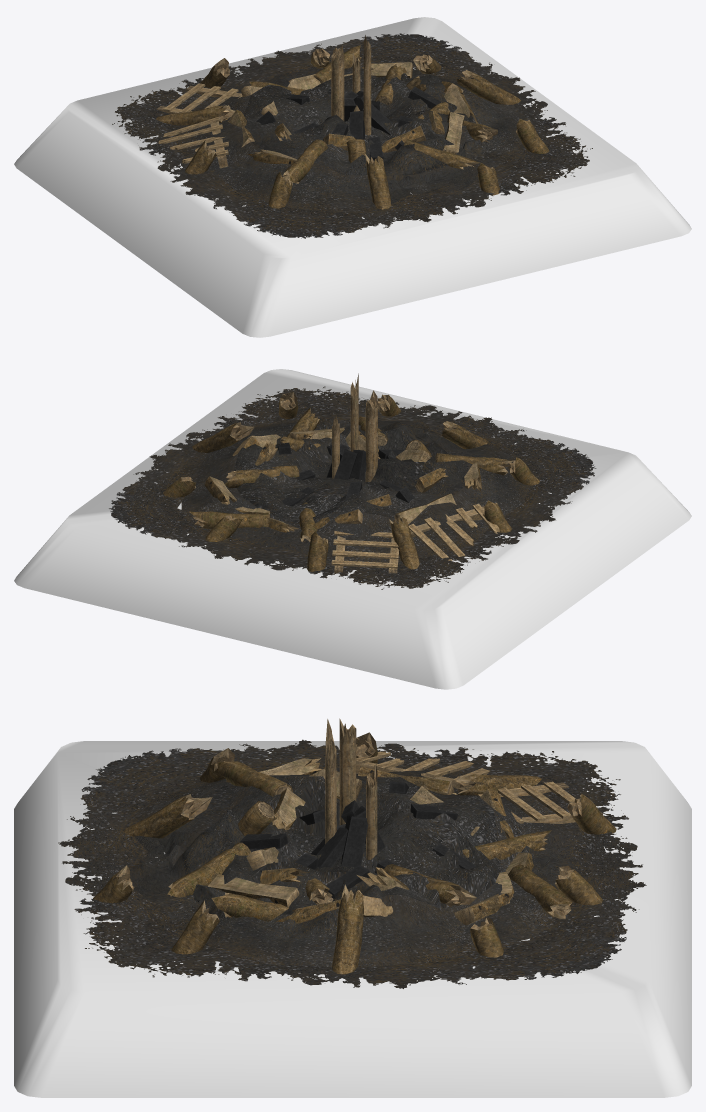
File: CoalerPile_Destroyed_Stage3.fbx
3 renders of one model, top to bottom at view 1: azimuth 30°, elevation 25°; view 2: azimuth 150°, elevation 25°; view 3: azimuth 270°, elevation 25°, orthographic. The views are drawn at different scales.
Visible parts, largest first — view 1: CoalerPile_Base_Destroyed_Stage3, CoalerPile_Destroyed_Stage3; view 2: CoalerPile_Base_Destroyed_Stage3, CoalerPile_Destroyed_Stage3; view 3: CoalerPile_Base_Destroyed_Stage3, CoalerPile_Destroyed_Stage3.
Part boxes in pixels (x1,y1,x2,y2): CoalerPile_Base_Destroyed_Stage3: [14, 17, 691, 337]; CoalerPile_Destroyed_Stage3: [112, 33, 592, 238]; CoalerPile_Base_Destroyed_Stage3: [14, 369, 691, 689]; CoalerPile_Destroyed_Stage3: [109, 373, 596, 589]; CoalerPile_Base_Destroyed_Stage3: [14, 741, 691, 1097]; CoalerPile_Destroyed_Stage3: [58, 718, 646, 988].
Size of the model in its own units: 796 by 286 by 758.
